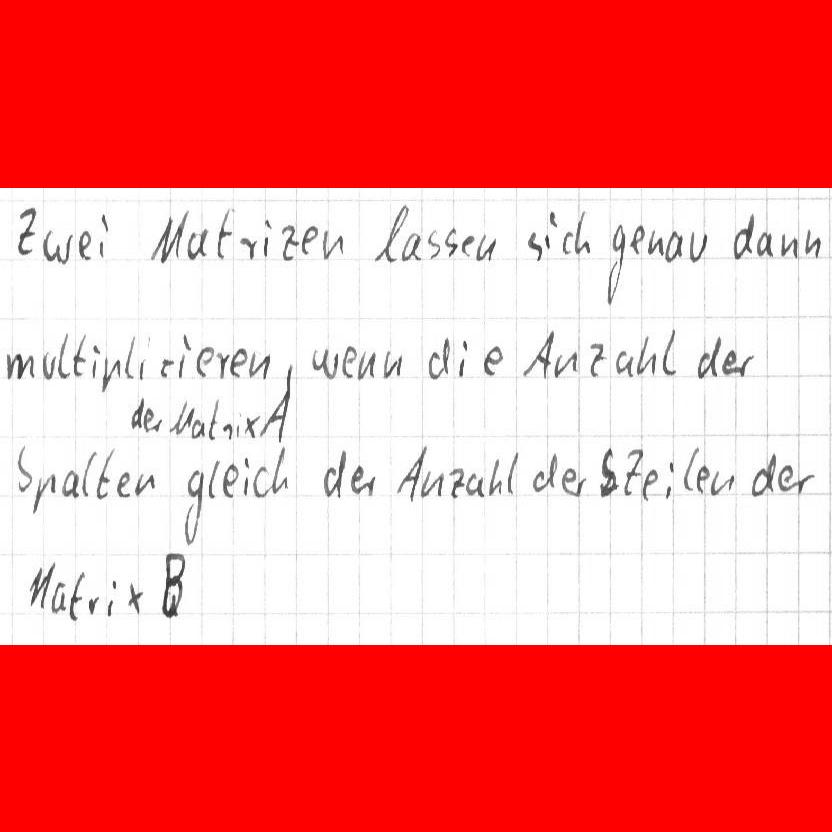Char: (157, 552, 186, 618), (372, 206, 405, 263), (149, 214, 183, 266), (395, 446, 427, 501), (182, 467, 204, 545), (262, 389, 292, 445), (522, 327, 553, 380), (606, 224, 626, 306), (25, 560, 56, 610), (750, 447, 776, 499), (322, 445, 346, 499), (14, 204, 37, 258), (531, 450, 559, 493), (732, 211, 755, 260), (621, 445, 643, 496), (695, 335, 720, 379), (427, 335, 451, 380), (598, 445, 618, 496), (269, 447, 290, 495), (311, 343, 338, 380), (5, 350, 36, 382), (32, 471, 55, 514), (95, 448, 114, 499), (43, 228, 69, 265), (215, 209, 234, 259), (12, 443, 31, 493), (634, 336, 656, 378), (350, 465, 376, 499), (417, 469, 445, 500), (72, 335, 91, 380), (69, 568, 85, 621), (574, 209, 592, 255), (661, 327, 677, 378), (80, 447, 96, 498), (168, 401, 189, 437), (504, 450, 521, 494), (321, 229, 344, 261), (381, 347, 403, 380), (560, 464, 582, 497), (101, 355, 120, 393), (186, 229, 208, 261), (278, 223, 297, 260), (553, 350, 579, 377), (248, 350, 271, 380), (683, 448, 699, 491), (482, 345, 503, 377), (178, 331, 192, 379), (56, 332, 70, 380), (398, 233, 421, 262), (221, 460, 239, 497), (299, 224, 318, 259), (688, 229, 708, 262), (640, 468, 659, 502), (588, 342, 606, 377), (475, 233, 496, 263), (205, 457, 220, 499), (125, 581, 144, 614), (97, 212, 110, 259), (665, 229, 684, 261), (711, 470, 735, 495), (358, 350, 378, 380), (527, 229, 544, 263), (196, 346, 214, 378), (206, 399, 220, 440), (488, 456, 502, 497), (229, 347, 248, 377), (77, 228, 94, 261), (50, 582, 67, 615), (124, 336, 137, 379), (464, 472, 485, 498), (259, 218, 272, 260), (61, 470, 79, 500), (342, 343, 357, 379), (613, 348, 632, 376), (139, 335, 151, 379), (129, 396, 145, 429), (733, 351, 753, 377), (779, 232, 798, 259), (238, 234, 256, 262), (805, 229, 823, 257), (631, 223, 645, 259), (157, 354, 177, 379), (42, 348, 57, 381), (720, 348, 737, 377), (777, 463, 794, 492), (134, 473, 155, 496), (253, 467, 269, 497), (794, 471, 814, 495), (645, 228, 662, 256), (448, 466, 463, 497), (426, 228, 441, 259), (215, 349, 230, 380), (695, 463, 710, 494), (547, 211, 557, 257), (114, 471, 131, 498), (142, 409, 161, 433), (106, 578, 118, 616), (457, 338, 468, 379), (244, 412, 260, 439), (757, 231, 774, 256), (189, 413, 205, 439), (664, 462, 675, 499), (458, 233, 473, 260), (443, 227, 456, 258), (242, 456, 252, 496), (90, 344, 101, 380), (86, 591, 101, 616), (559, 230, 573, 255), (283, 362, 294, 390), (220, 421, 236, 439), (824, 231, 832, 259), (236, 411, 242, 439)
